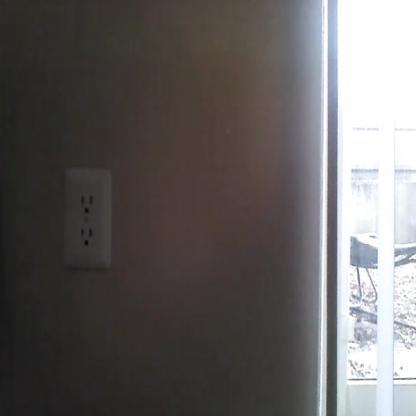OUTLET: (64, 167, 112, 270)
